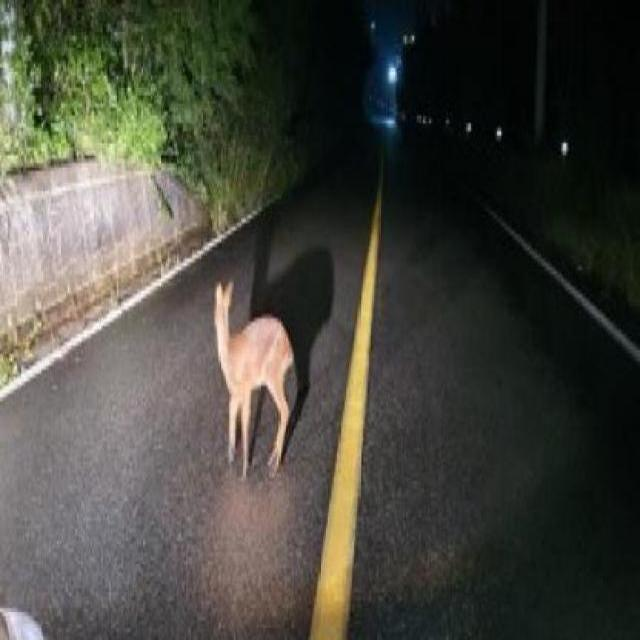deer: (190, 250, 304, 507)
